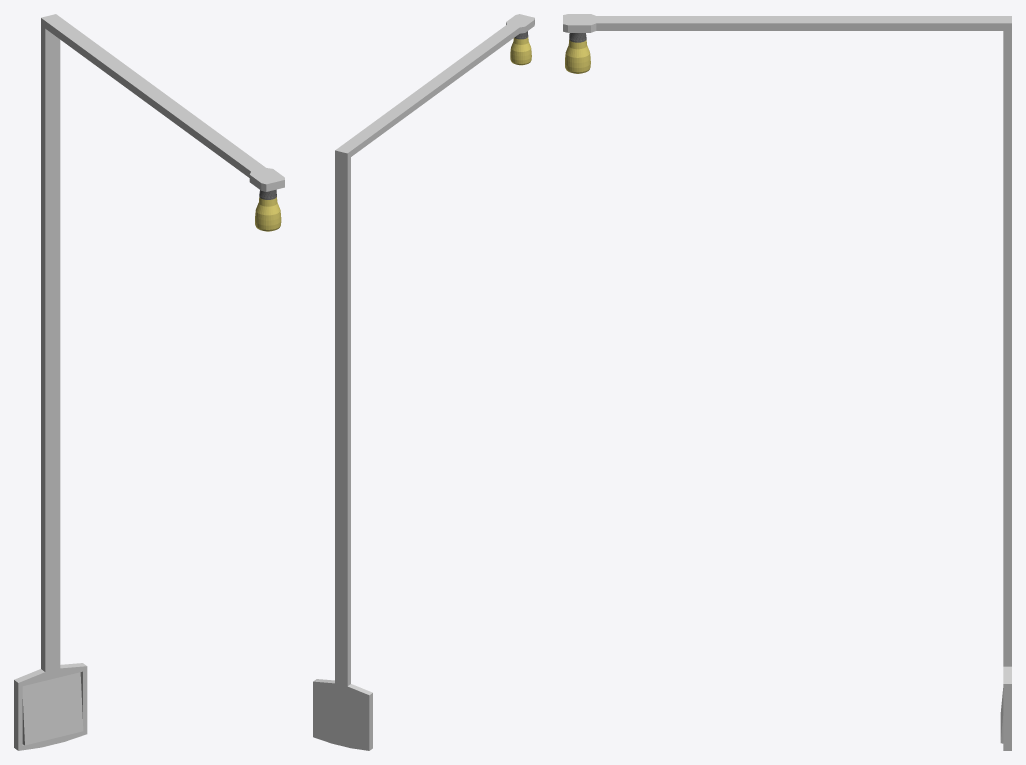
File: light_and_switch.fbx
The picture shows the model from 3 angles, left to right: view 1: azimuth 30°, elevation 25°; view 2: azimuth 150°, elevation 25°; view 3: azimuth 270°, elevation 25°; orthographic projection. The views are drawn at different scales.
Visible parts, largest first — view 1: Cube, Cube.001; view 2: Cube, Cube.001; view 3: Cube, Cube.001.
Boxes of the visible parts, x1,y1,x2,y2 form: Cube: [14, 14, 284, 750]; Cube.001: [255, 189, 281, 231]; Cube: [313, 14, 534, 750]; Cube.001: [510, 31, 531, 65]; Cube: [563, 14, 1011, 750]; Cube.001: [565, 33, 590, 73].
Size of the model in its own units: 77.24 by 778 by 441.
